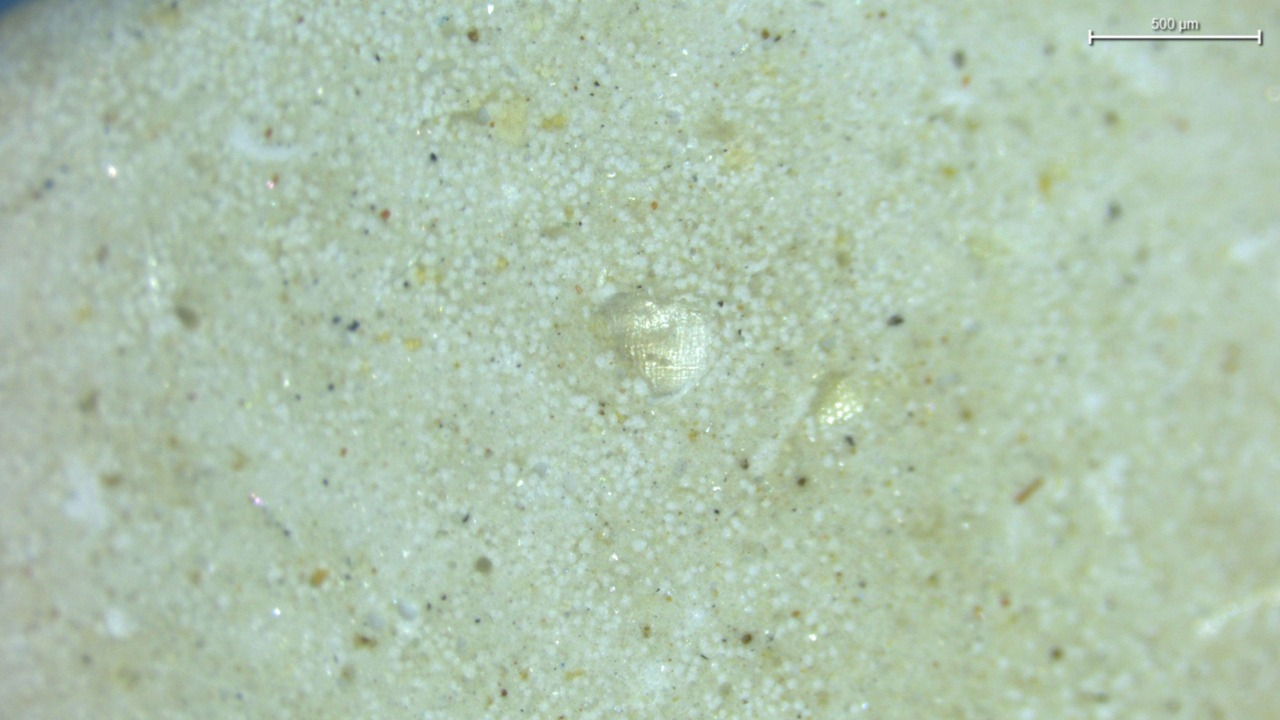microplastic_fragment: (596, 292, 711, 396)
